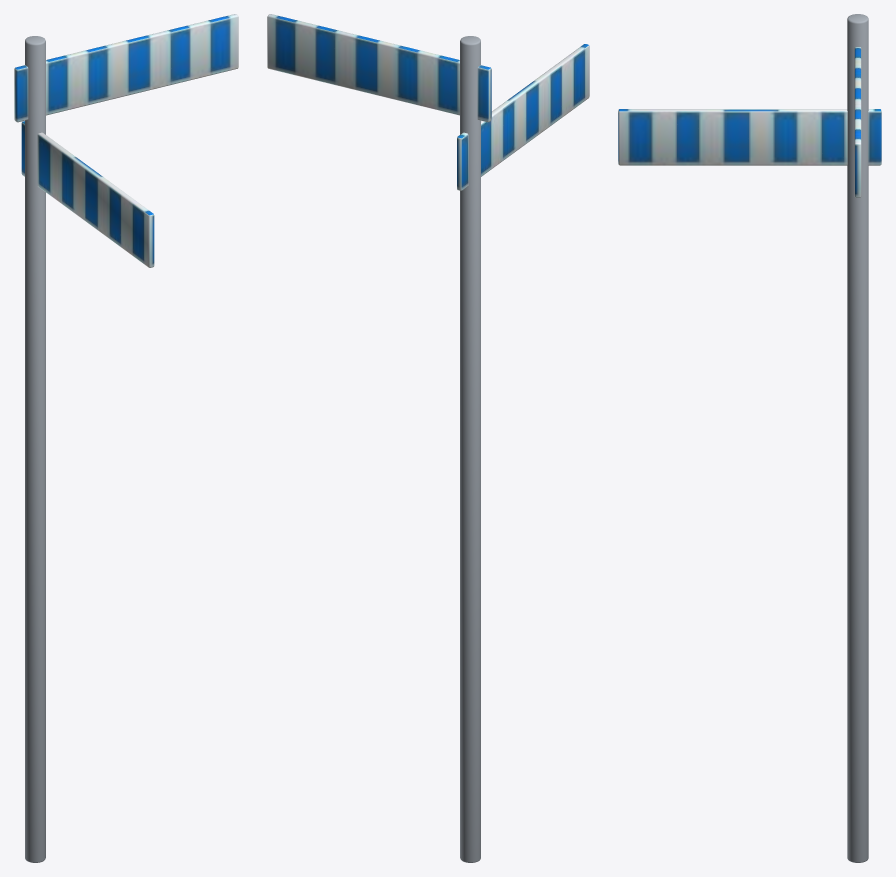
File: namepost-d4ee6129a06c.glb
3 views of the same model, side by side, from view 1: azimuth 30°, elevation 25°; view 2: azimuth 150°, elevation 25°; view 3: azimuth 270°, elevation 25° (orthographic). The views are drawn at different scales.
Visible parts, largest first — view 1: Mesh_StreetName_Plate, Pole; view 2: Mesh_StreetName_Plate, Pole; view 3: Pole, Mesh_StreetName_Plate.
Part boxes in pixels (left/top/right/bottom): Mesh_StreetName_Plate: left=14, top=14, right=238, bottom=267; Pole: left=25, top=36, right=45, bottom=862; Mesh_StreetName_Plate: left=267, top=14, right=589, bottom=190; Pole: left=460, top=36, right=480, bottom=862; Pole: left=847, top=14, right=868, bottom=862; Mesh_StreetName_Plate: left=618, top=47, right=881, bottom=197.
Size of the model in its own units: 0.78 by 2.75 by 0.78.
2 materials, 1 textured.
